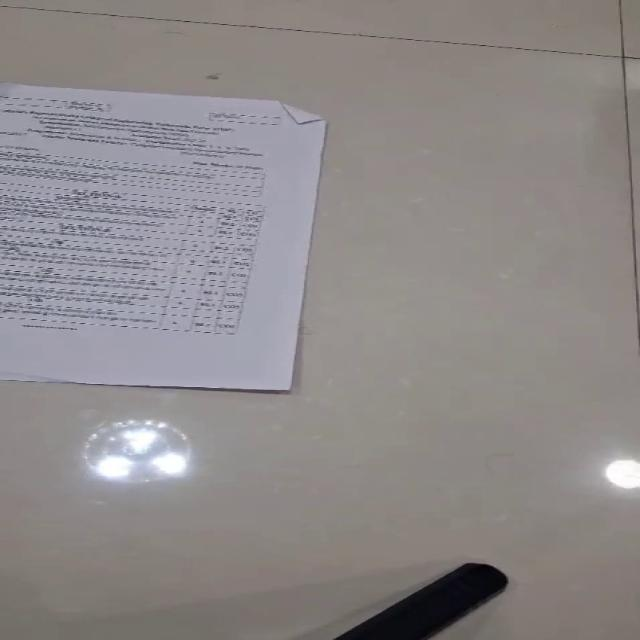paper: (0, 81, 328, 392)
